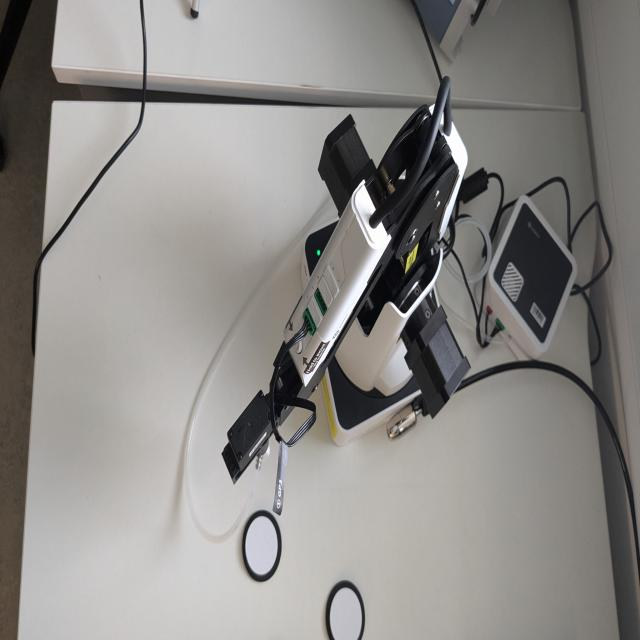Robot-end-effector-HF8z: (220, 386, 282, 488)
